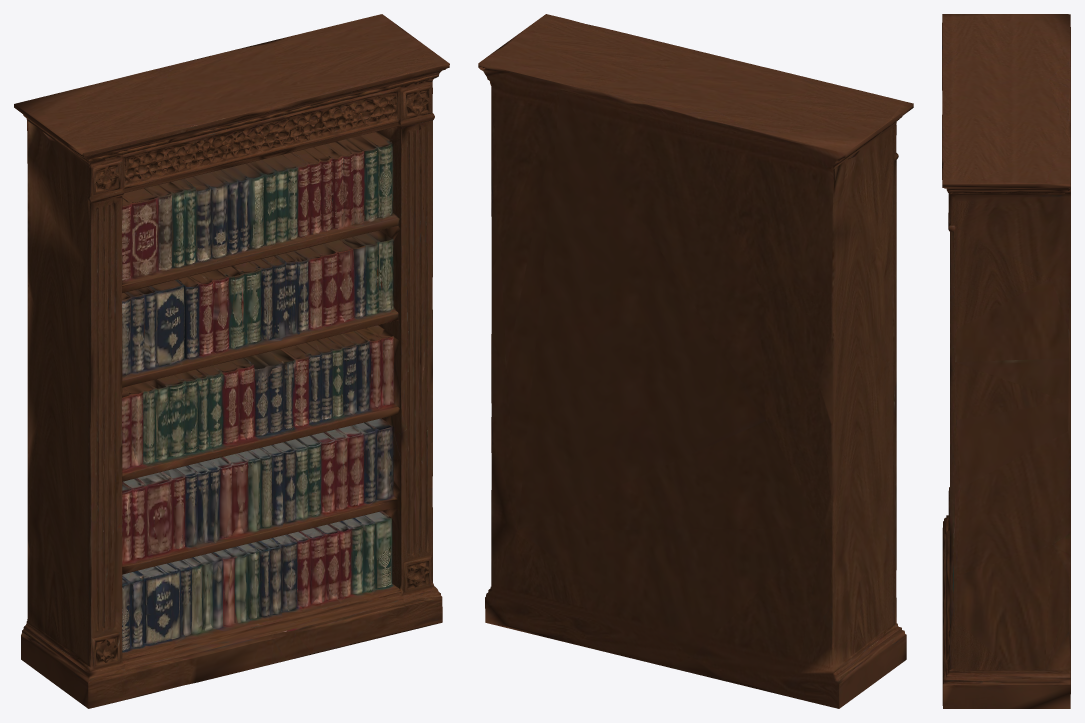
Rendered from bookshelf.glb.
3 renders of one model, left to right at view 1: azimuth 30°, elevation 25°; view 2: azimuth 150°, elevation 25°; view 3: azimuth 270°, elevation 25°, orthographic. The views are drawn at different scales.
Size of the model in its own units: 1.93 by 2.8 by 0.6183.
1 material, 1 textured.
